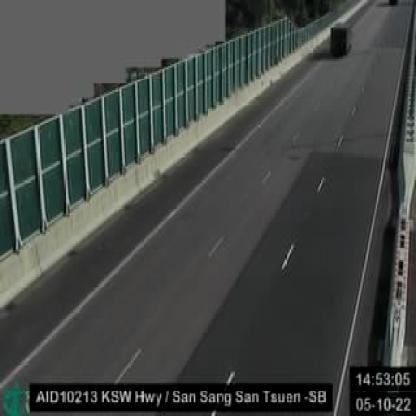Truck: (330, 19, 351, 56)
